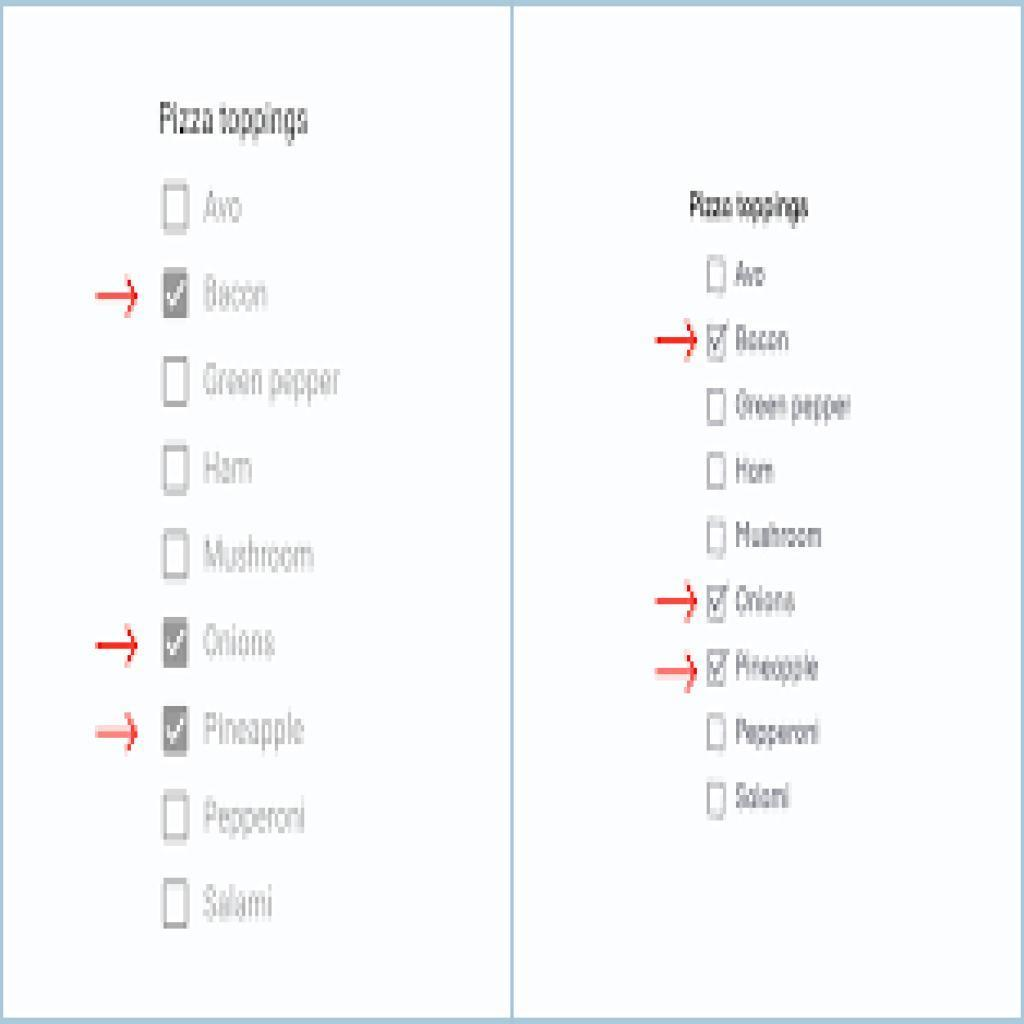checkbox: (160, 265, 195, 322), (162, 180, 196, 238), (161, 790, 193, 848), (161, 355, 193, 410), (161, 528, 193, 583), (162, 442, 193, 497), (162, 704, 193, 759), (163, 617, 192, 672), (162, 877, 192, 929), (702, 648, 733, 687), (704, 518, 731, 562), (704, 585, 731, 626), (705, 452, 730, 493), (705, 712, 729, 752), (707, 323, 731, 362), (707, 255, 729, 296), (707, 388, 729, 428), (707, 783, 729, 821)
label: (200, 361, 344, 408), (202, 794, 308, 843), (732, 385, 857, 426), (201, 707, 308, 754), (204, 535, 318, 578), (732, 645, 823, 689), (732, 712, 824, 750), (202, 620, 281, 664), (732, 518, 827, 552), (202, 880, 275, 923), (200, 274, 266, 320), (732, 581, 802, 622), (200, 447, 259, 492), (732, 777, 795, 817), (735, 320, 791, 355), (200, 187, 245, 227), (732, 454, 781, 490), (734, 255, 769, 289)
